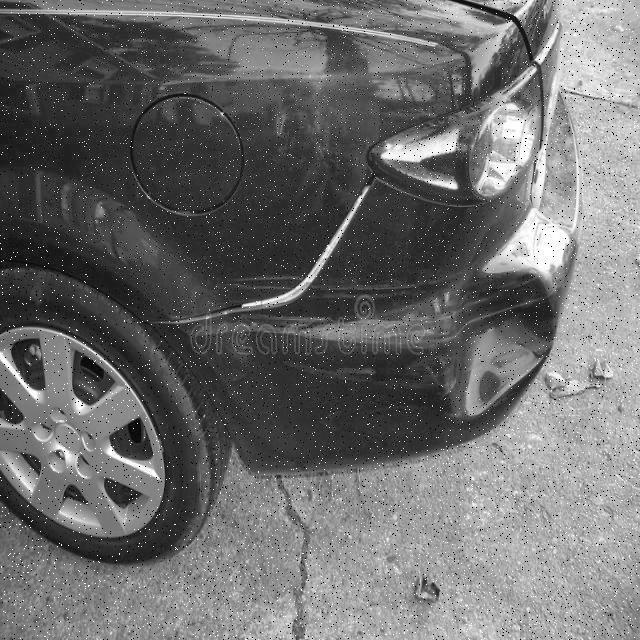rear-bumper-dent: (171, 218, 568, 480)
